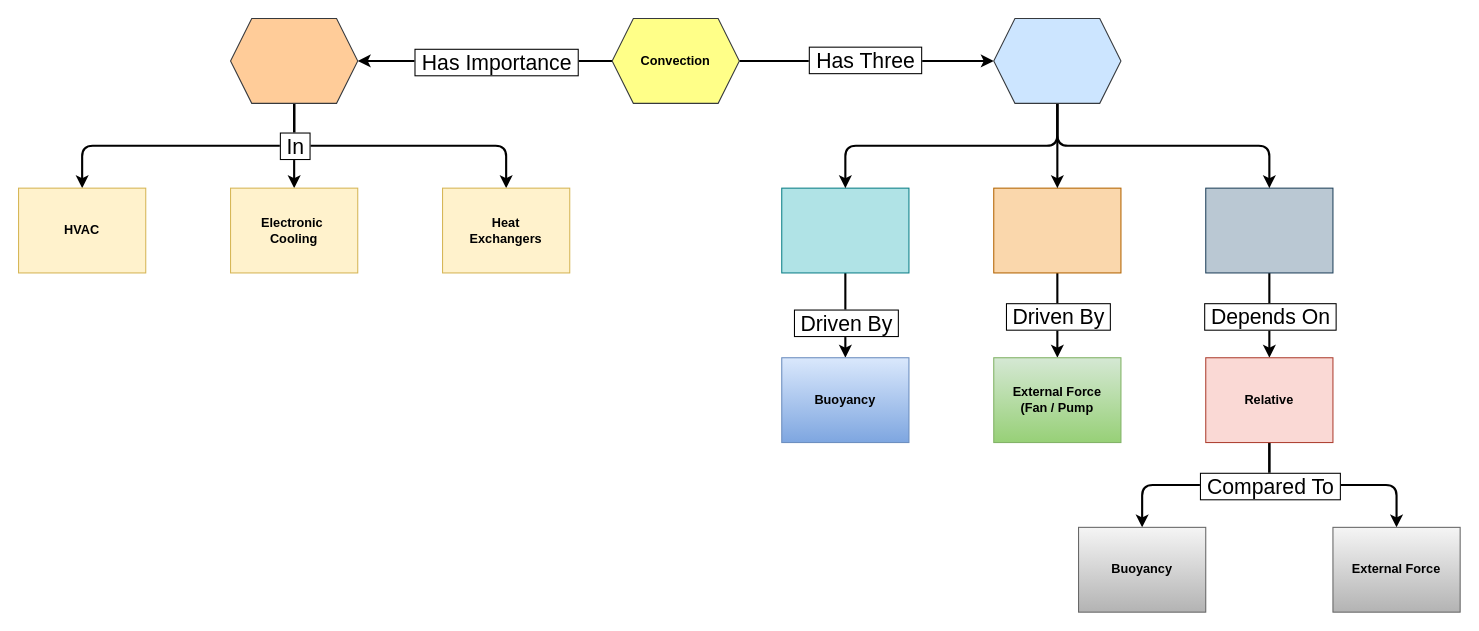
This 1479x631 diagram has some shape labels left out. The centre of each missing label's shape, as x and y in pixels:
"Combined" goes at point (1269, 230).
"Forced" goes at point (1057, 230).
"Importance" goes at point (293, 60).
"Modes" goes at point (1057, 60).
"Natural" goes at point (845, 230).
